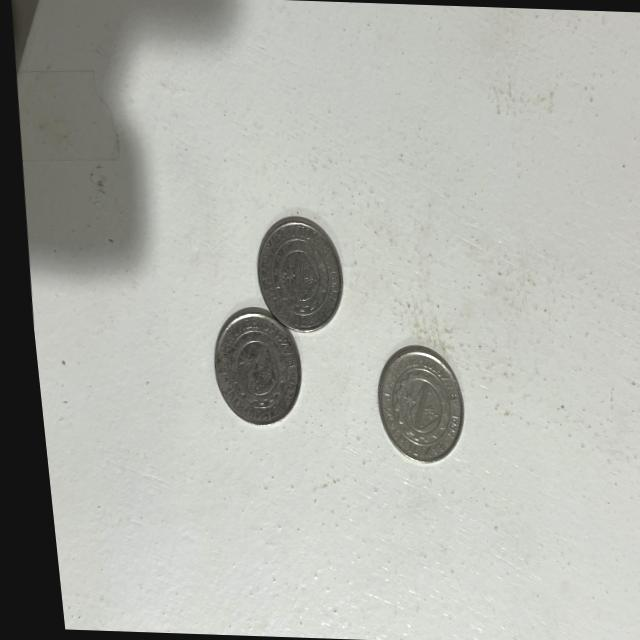1_Old_Back: (377, 360, 448, 446), (256, 235, 325, 318), (216, 326, 283, 410)
